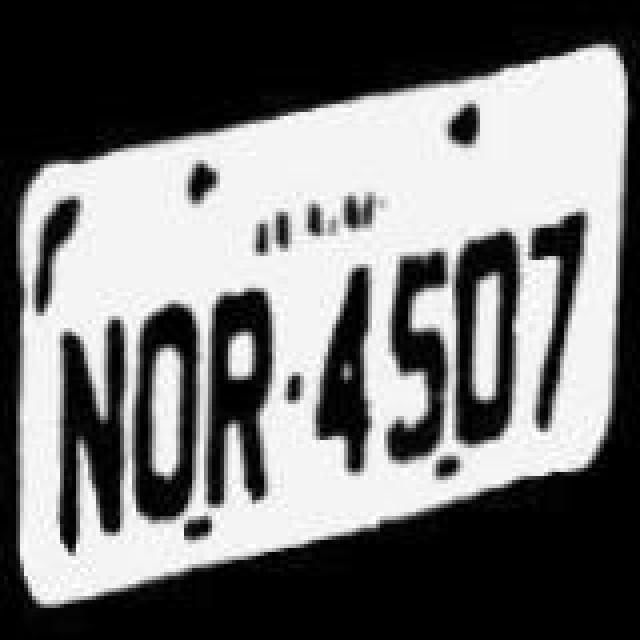4: (304, 246, 380, 490)
5: (380, 248, 456, 468)
7: (524, 208, 584, 444)
N: (52, 306, 132, 562)
O: (128, 274, 208, 534), (448, 214, 524, 458)
R: (202, 286, 286, 514)
